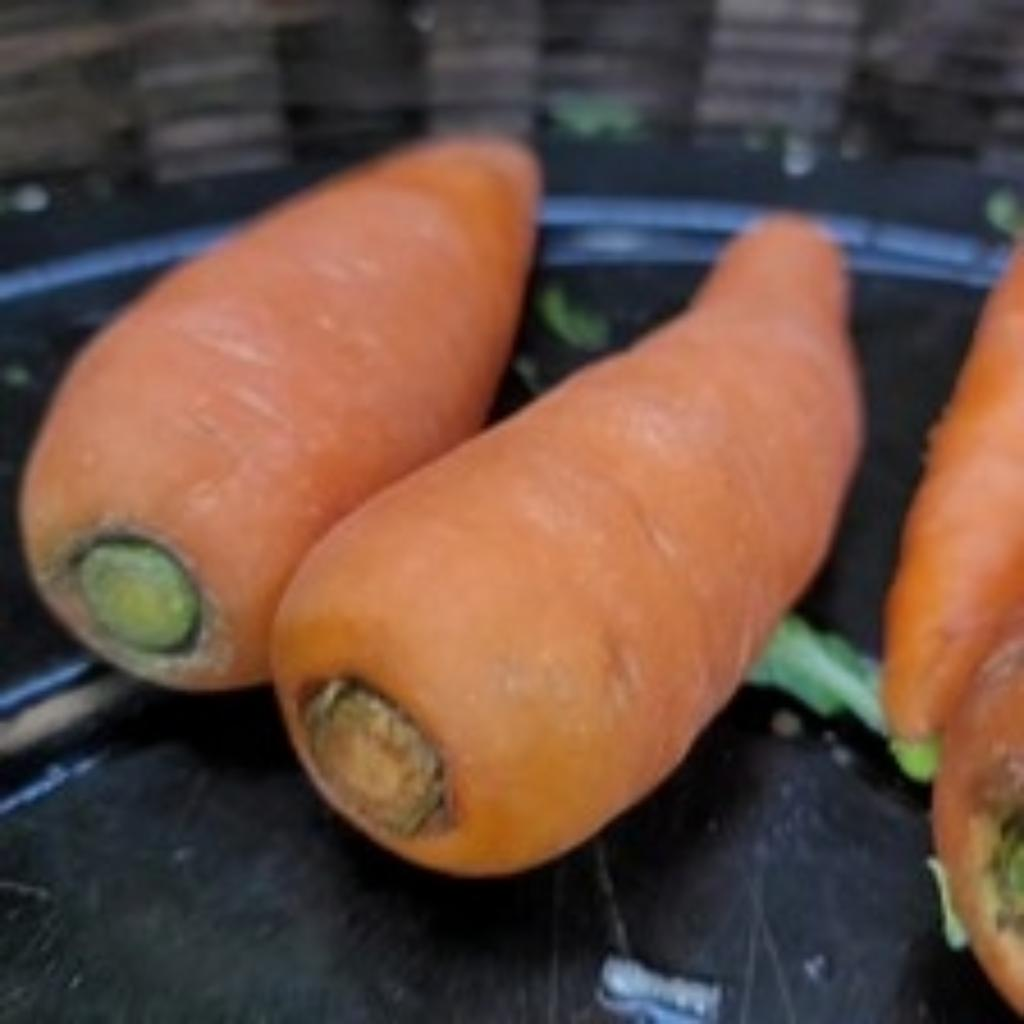carrot: (270, 215, 850, 864), (18, 137, 530, 681), (878, 242, 1015, 731), (928, 603, 1015, 1006)
